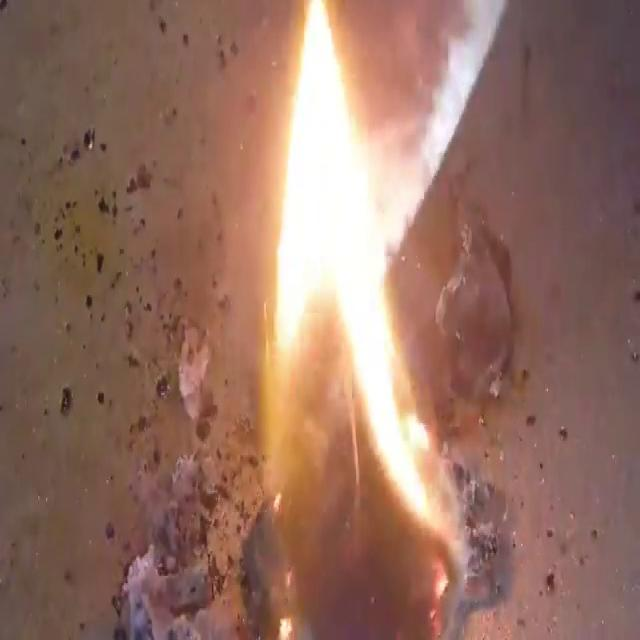Fire: (253, 3, 470, 633)
